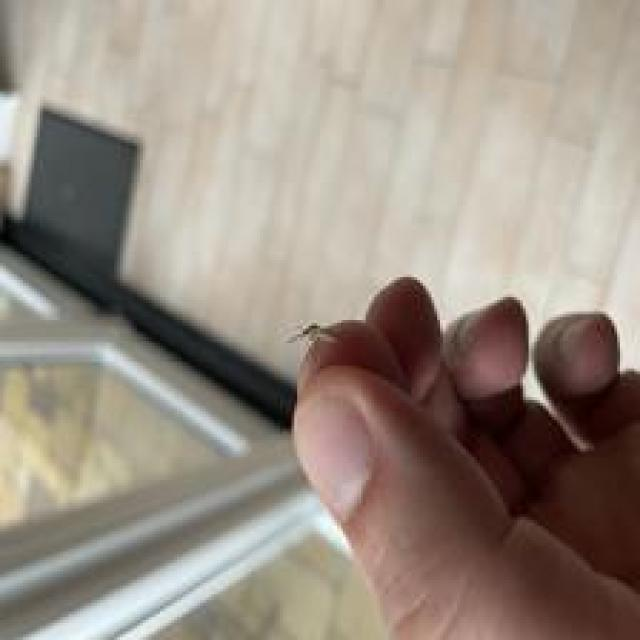Culex: (284, 319, 339, 350)
